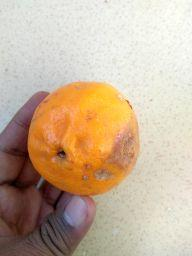Unripe: (26, 82, 143, 196)
